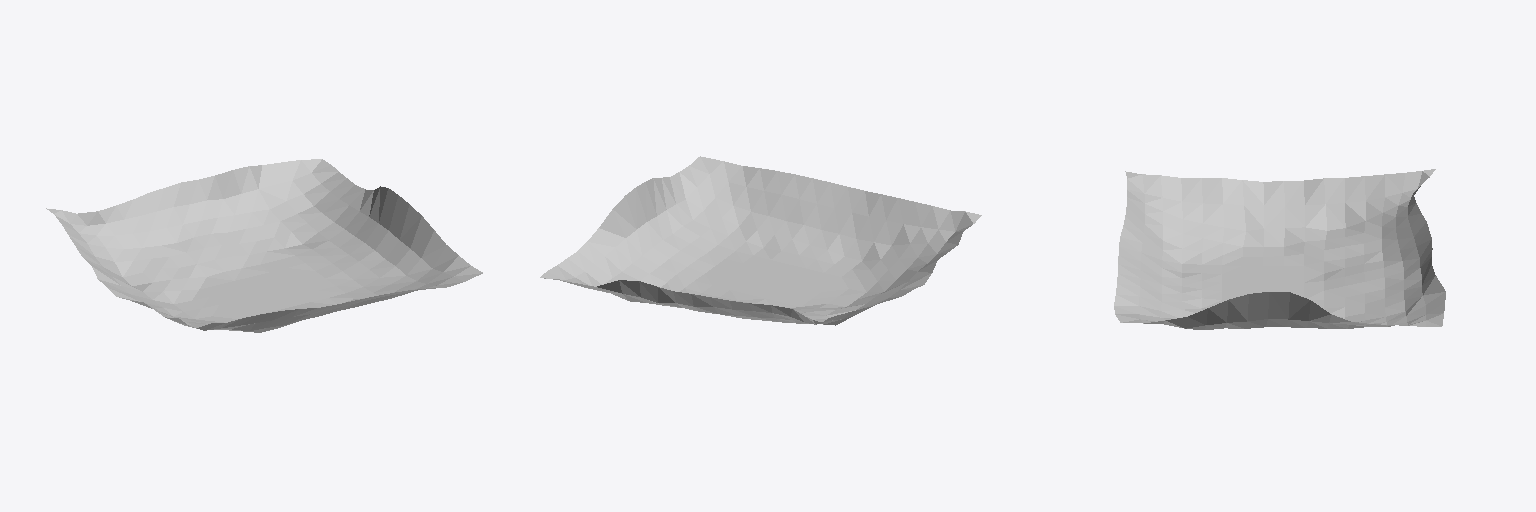
Rendered from teren.triangulated.obj.
3 views of the same model, side by side, from view 1: azimuth 30°, elevation 25°; view 2: azimuth 150°, elevation 25°; view 3: azimuth 270°, elevation 25° (orthographic).
Visible parts, largest first — view 1: Plane; view 2: Plane; view 3: Plane.
Boxes of the visible parts, x1=… form: Plane: x1=46, y1=159, x2=482, y2=332; Plane: x1=540, y1=156, x2=981, y2=325; Plane: x1=1114, y1=169, x2=1445, y2=329.
Bounding box in the file's own units: 192 × 38.87 × 186.